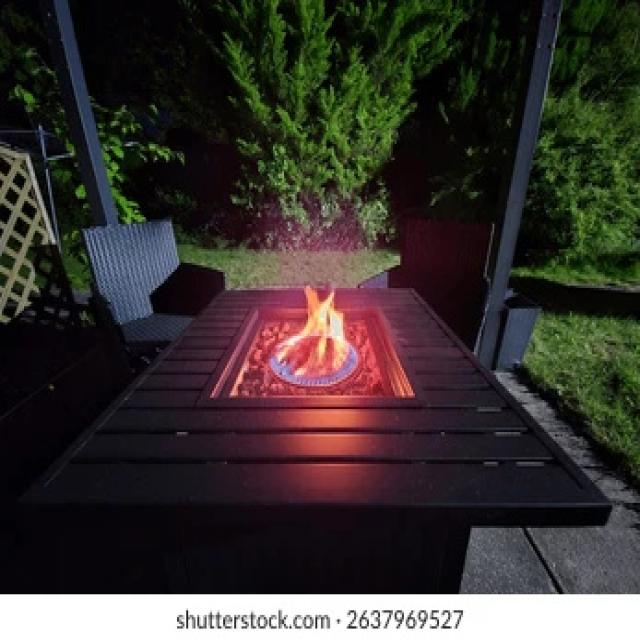fire: (270, 284, 358, 385)
